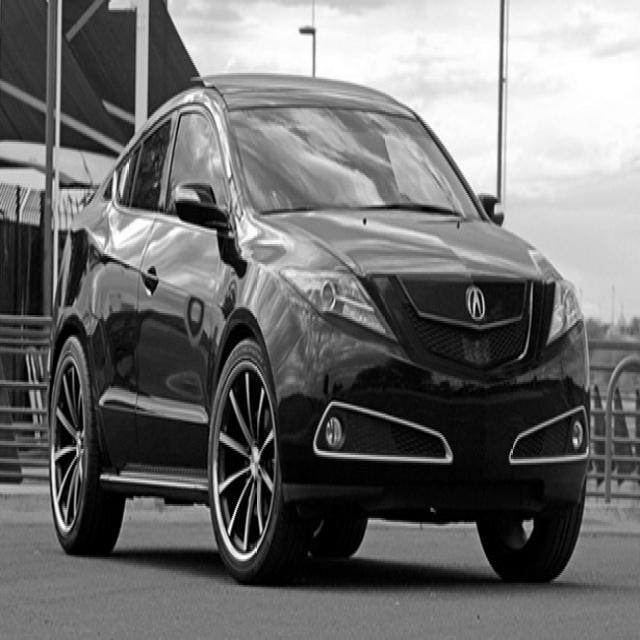car: (46, 71, 591, 585)
